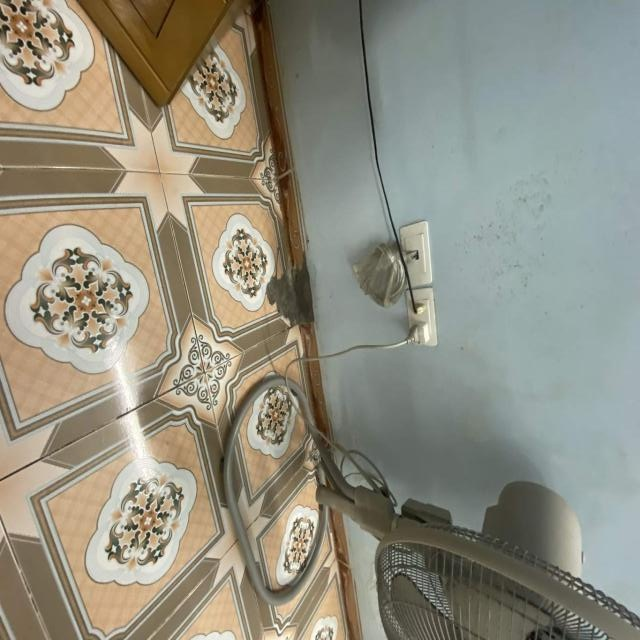outlet: (399, 219, 433, 285), (405, 287, 438, 346)
